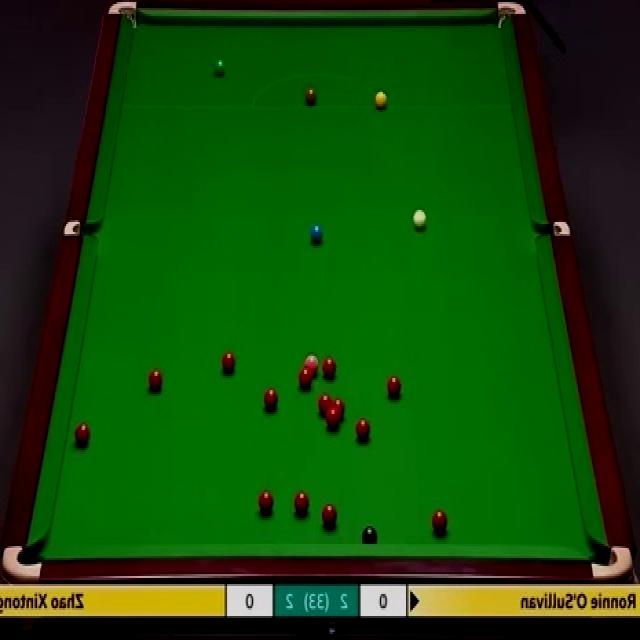black-ball: (361, 526, 378, 545)
blue-ball: (310, 220, 324, 245)
brown-ball: (305, 88, 317, 106)
green-ball: (213, 58, 228, 78)
pink-ball: (304, 354, 317, 376)
red-ball: (73, 420, 90, 449), (220, 349, 237, 378), (431, 509, 448, 534), (258, 489, 274, 515), (147, 369, 164, 393), (385, 377, 401, 401), (294, 491, 309, 516), (264, 387, 279, 412), (322, 503, 336, 528), (318, 394, 332, 418), (356, 418, 370, 441), (298, 366, 312, 388), (322, 359, 336, 378), (326, 410, 339, 430), (332, 398, 345, 418)
white-ball: (412, 205, 428, 234)
yellow-ball: (375, 89, 388, 109)
